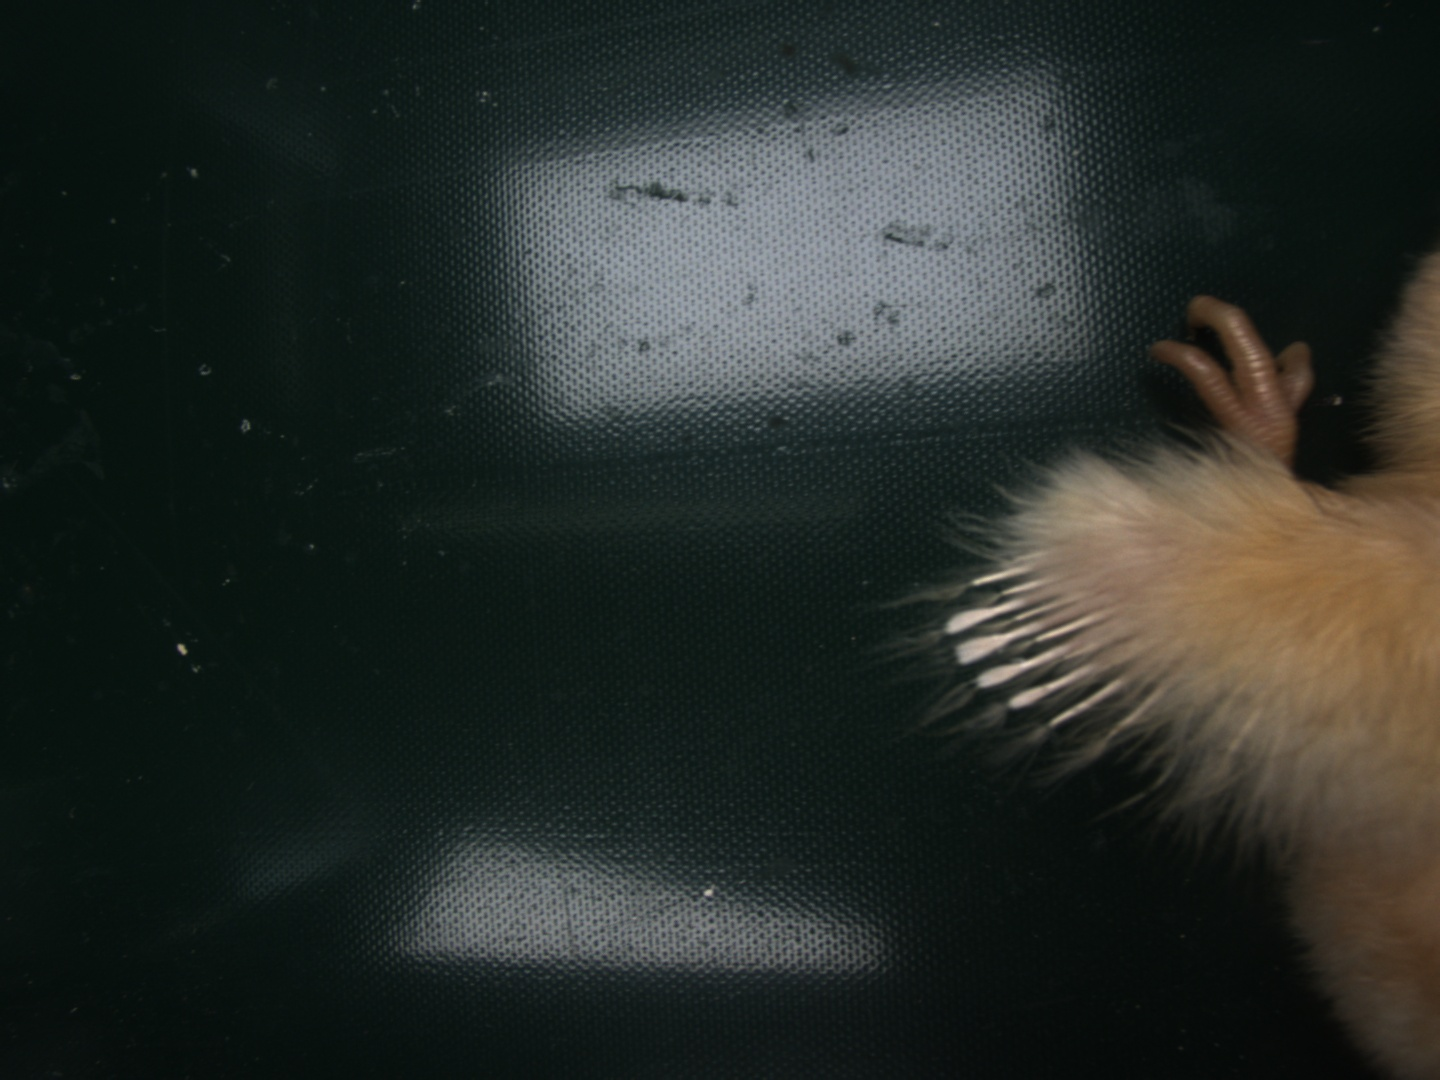female: (943, 546, 1169, 746)
